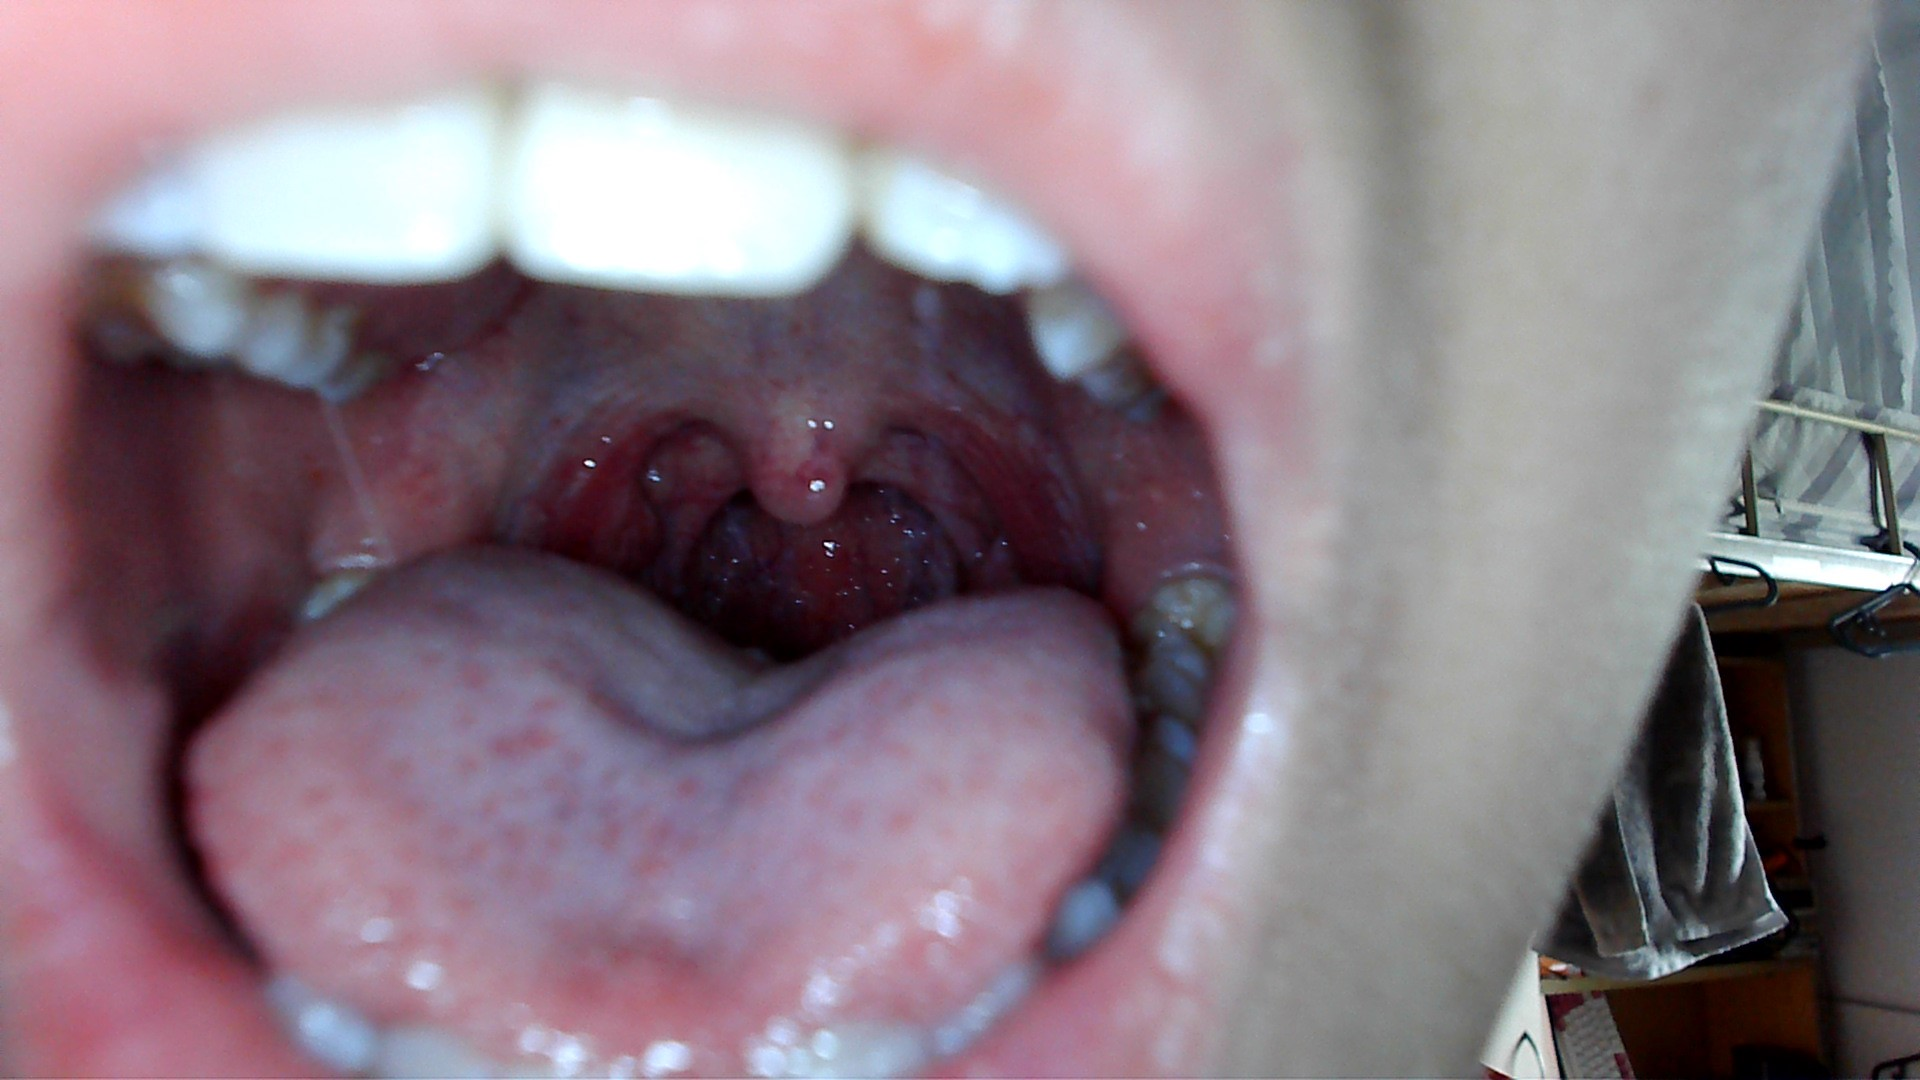throat: (949, 400, 1077, 584), (502, 396, 638, 553)
